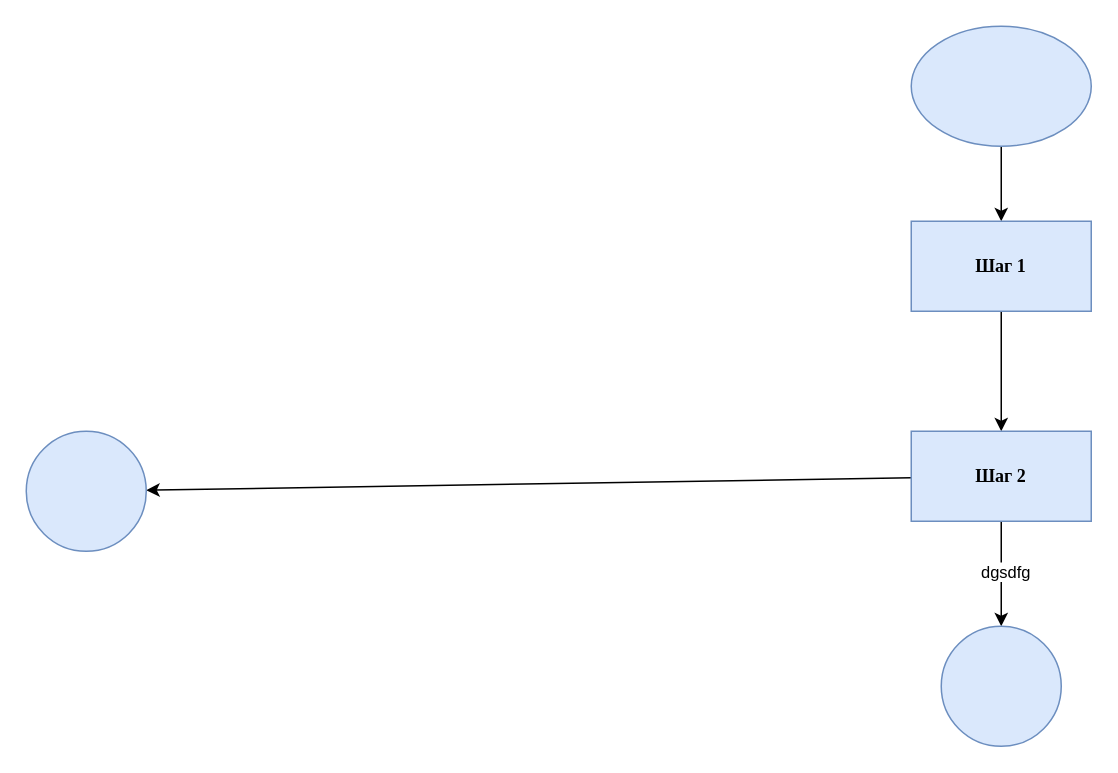
Image size: 1118x773. Some labels were removed from this diagram. The shapes that lost their labels are listed below. From the top down, each one's box as (x1, y1, x2, y2) in pixels, then its label:
(910, 25, 1091, 146): Начало
(940, 625, 1061, 746): Конец
